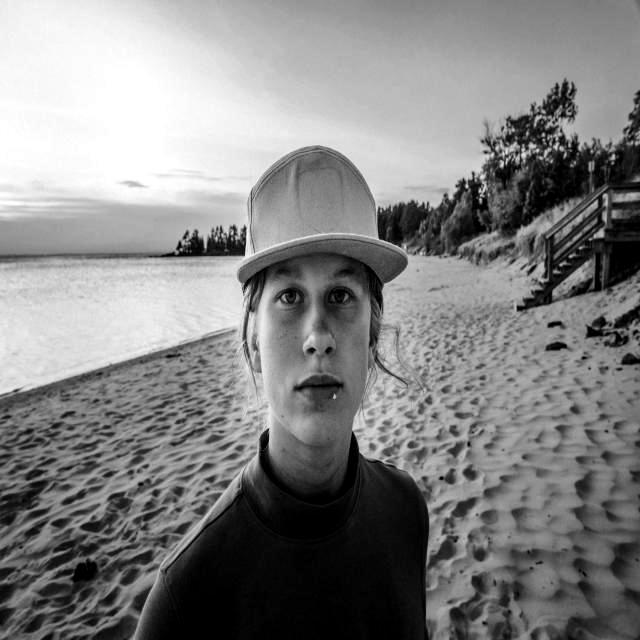no_hard_hat: (238, 146, 407, 284)
person: (154, 146, 429, 640)
